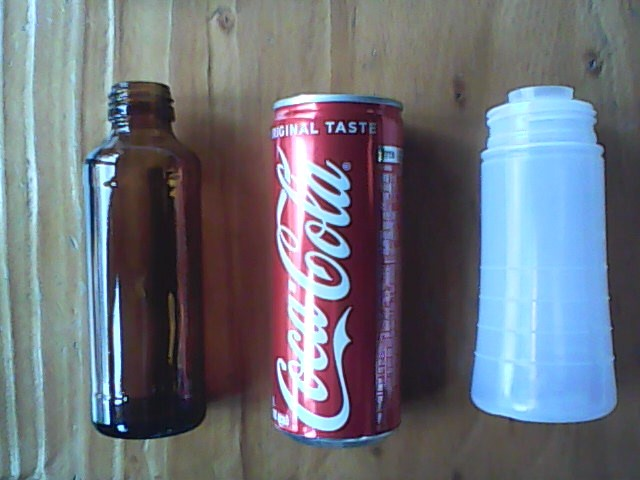Can: (268, 86, 409, 452)
Glass: (74, 75, 209, 440)
Plastic: (463, 77, 626, 428)
